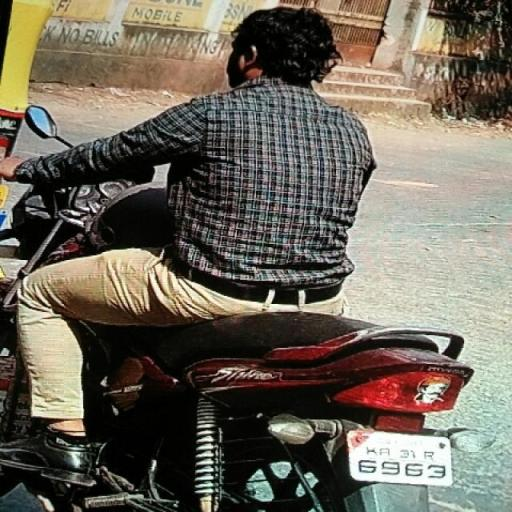bike: (2, 1, 490, 512)
numberplate: (347, 428, 459, 488)
withouthelmet: (232, 8, 332, 86)
